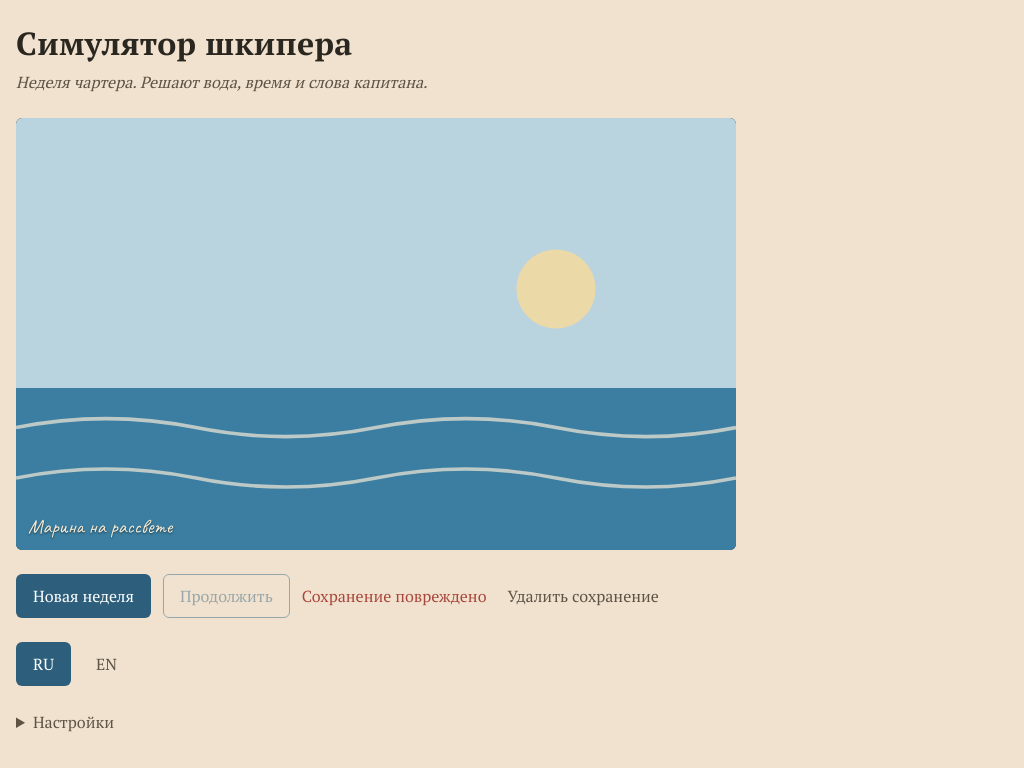
Test case: MenuScreen › reports a corrupt save and lets the player delete it
Expected: the text "Сохранение повреждено" is shown, left=302, top=585, right=486, bottom=607
Expected: the button "Продолжить" is disabled, left=163, top=574, right=290, bottom=618
What coordinates should you click on to do the following:
click the button "Удалить сохранение"
I would click on:
 (583, 596)
Its box is left=490, top=574, right=676, bottom=618.
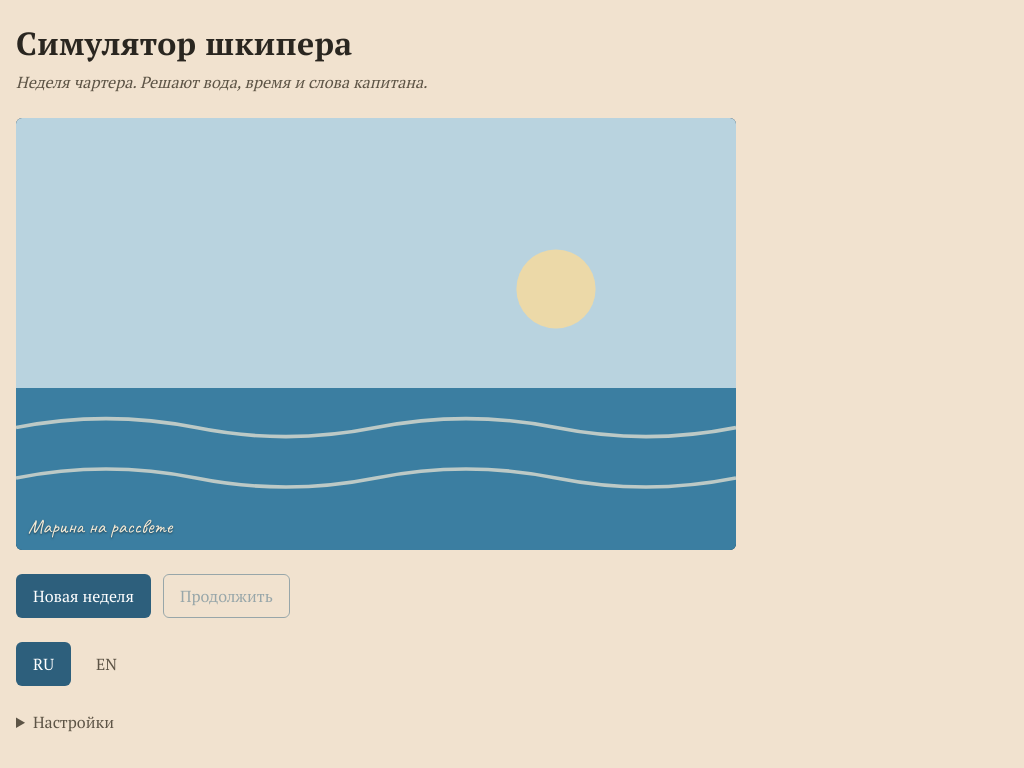
Now the text "Сохранение повреждено" is gone
